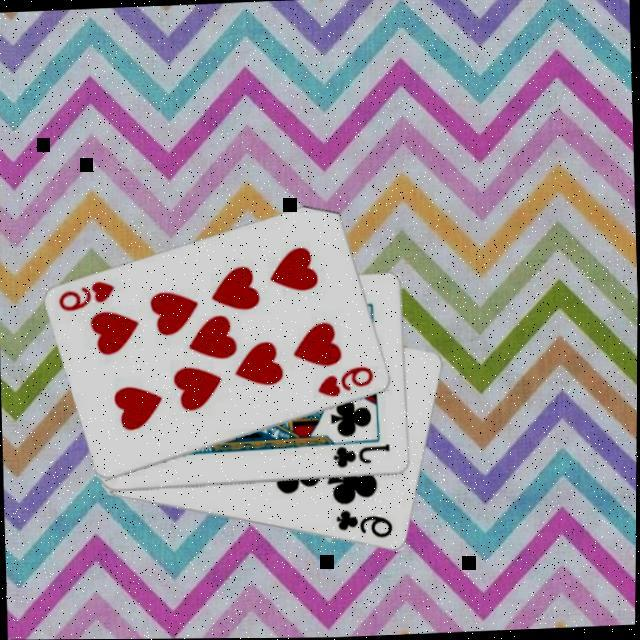9C: (331, 506, 395, 544)
9H: (313, 364, 376, 402), (54, 278, 117, 315)
JC: (329, 442, 392, 472)
